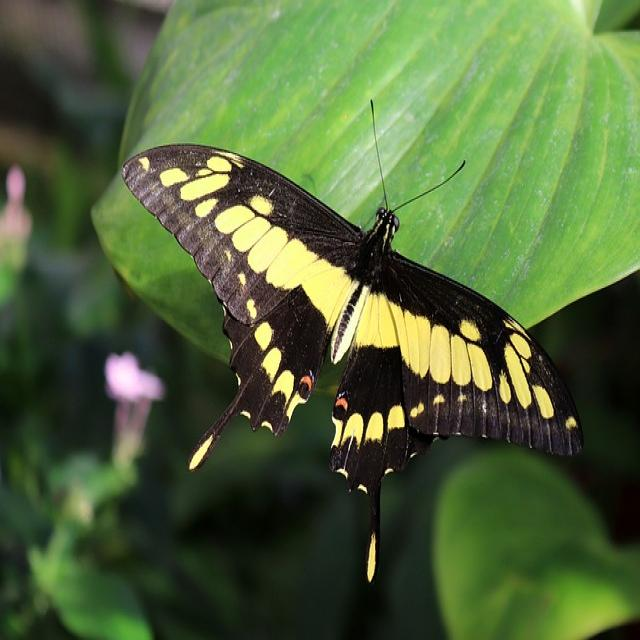butterfly: (91, 145, 585, 568)
